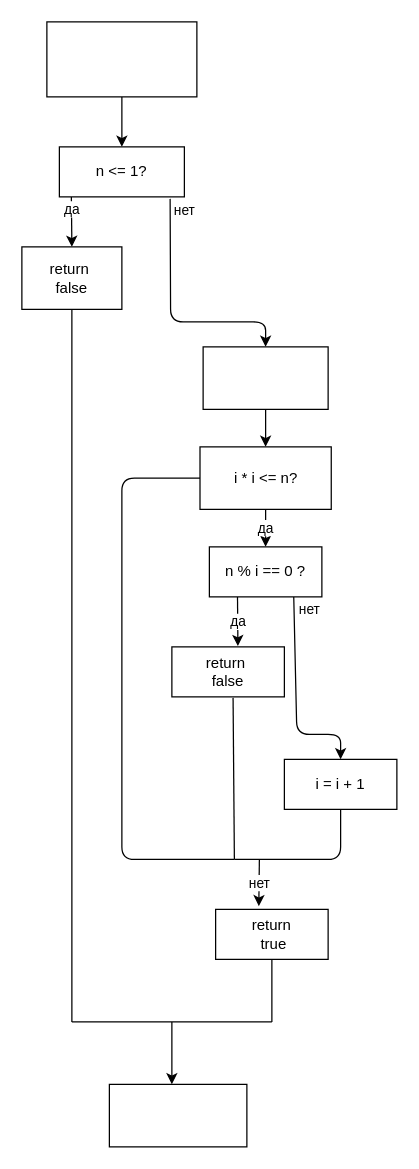
Image size: 419x1169. Some labels were removed from this diagram. The centre of each missing label's shape, as x and y in pixels:
"i = 2" goes at point (265, 377).
"Конец IsPrime" goes at point (177, 1115).
"Начало IsPrime(n)" goes at point (121, 59).
